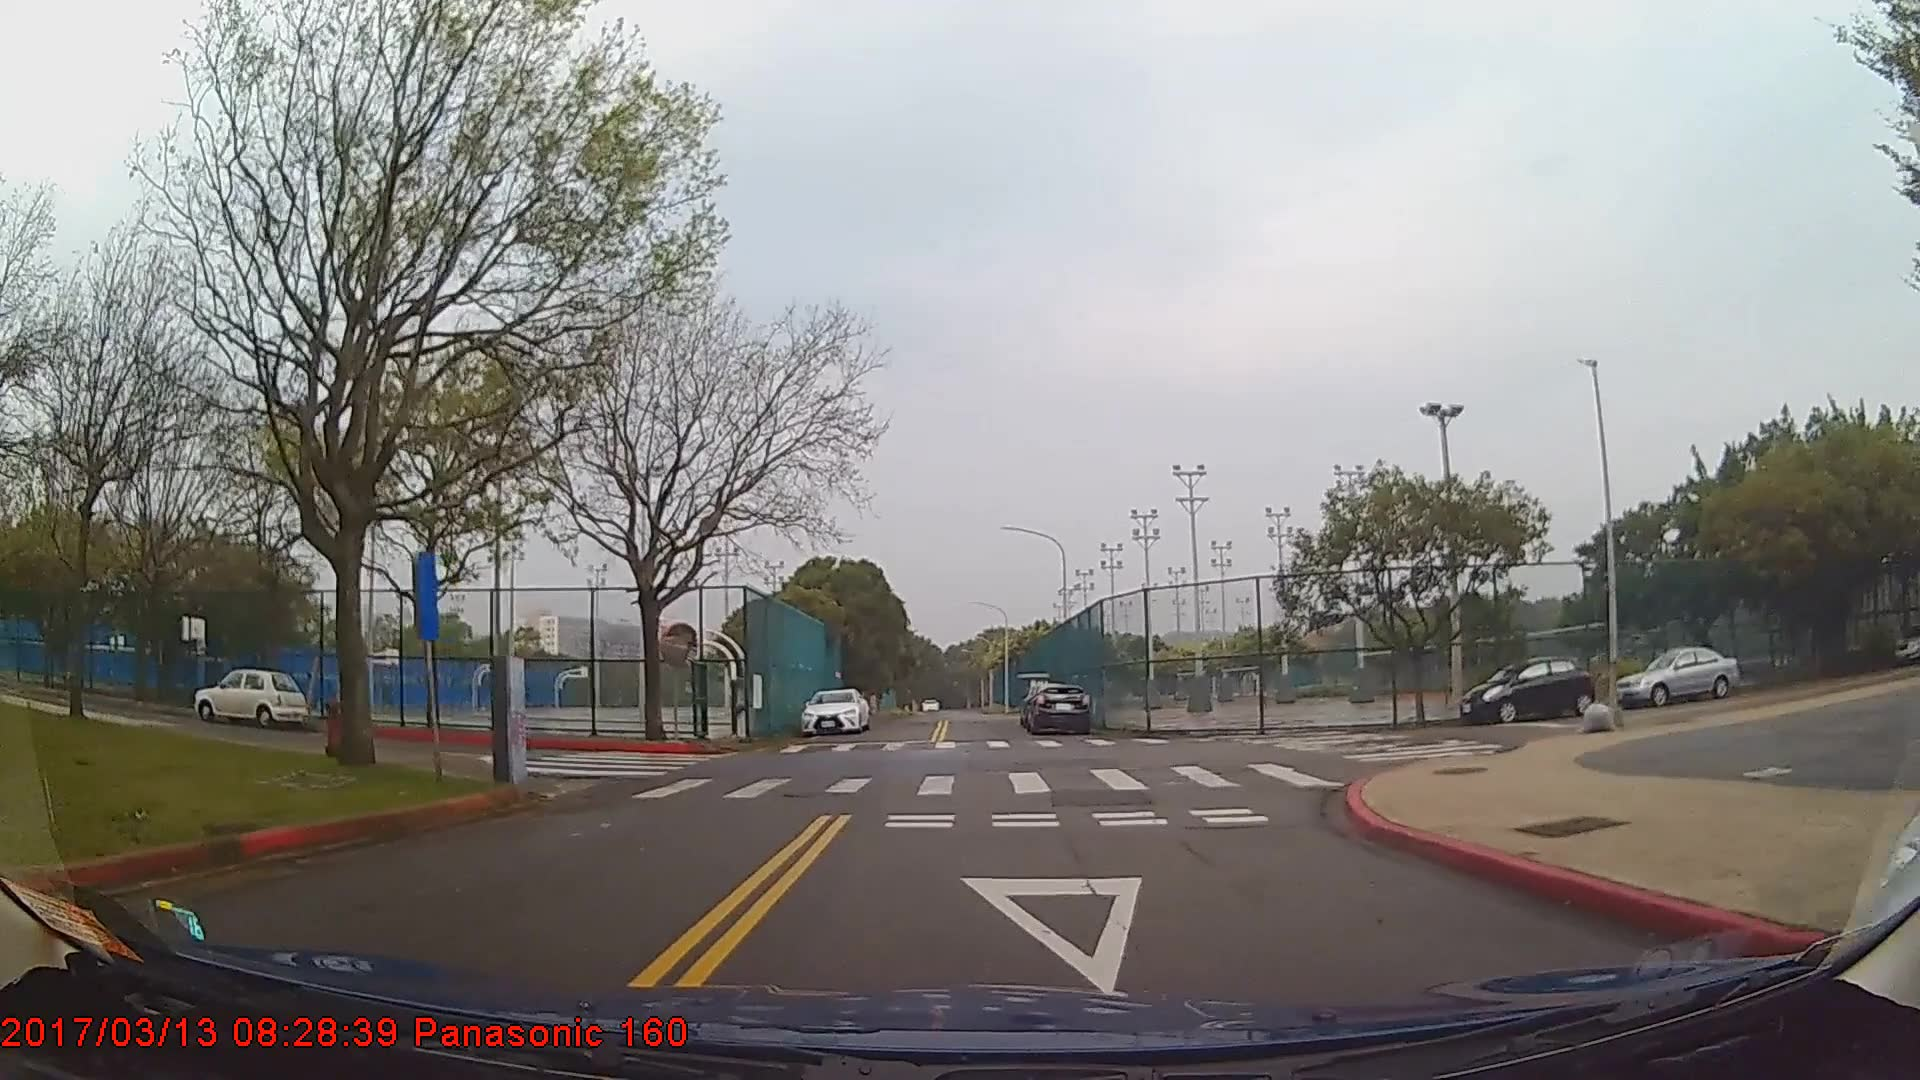vehicle: (1457, 654, 1593, 723), (1613, 644, 1743, 707), (193, 665, 307, 725), (1022, 679, 1091, 733), (798, 687, 866, 735)
